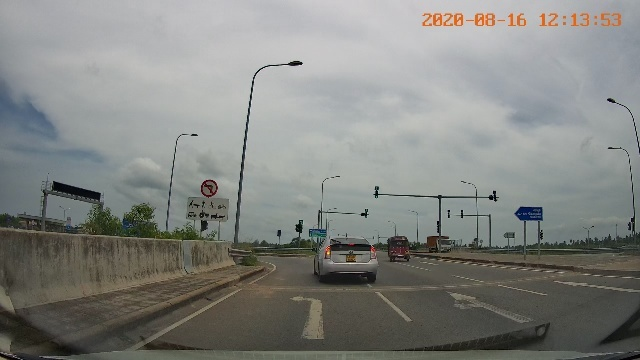LA: (288, 293, 325, 339)
SA: (550, 280, 639, 293)
SLA: (444, 289, 536, 324)
